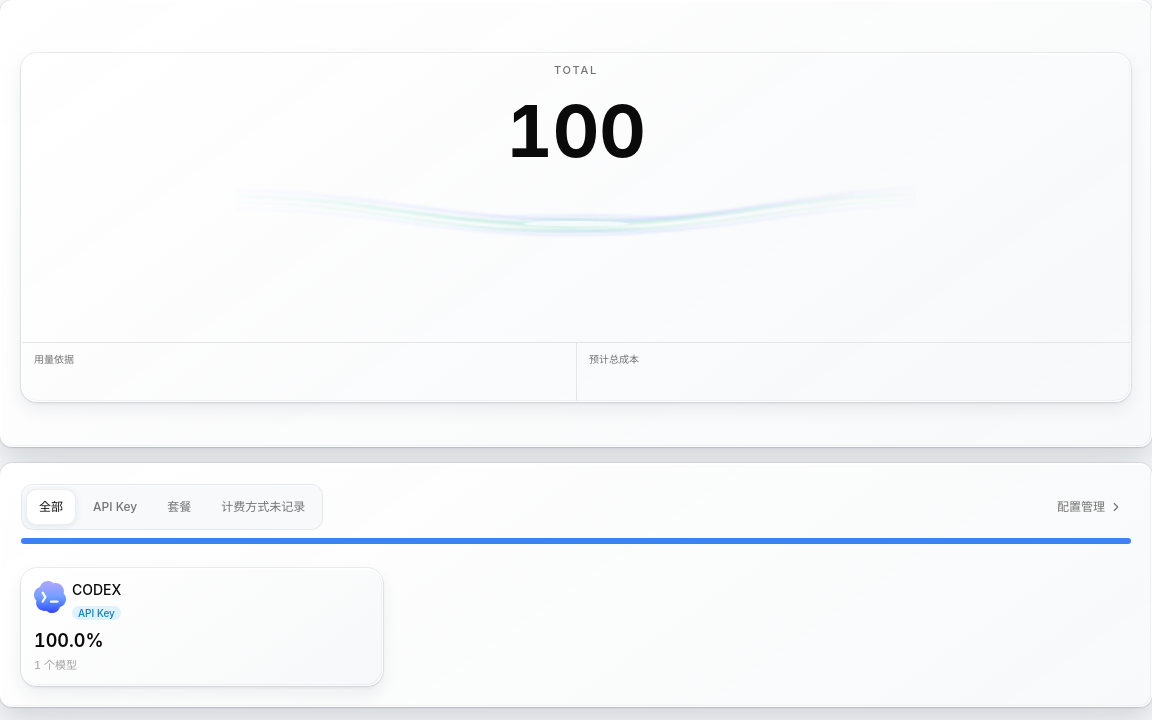
Test: UsageOverview › shows the empty state when the active filter has no matches
Click the tab "计费方式未记录": (263, 507) left=208, top=489, right=318, bottom=525
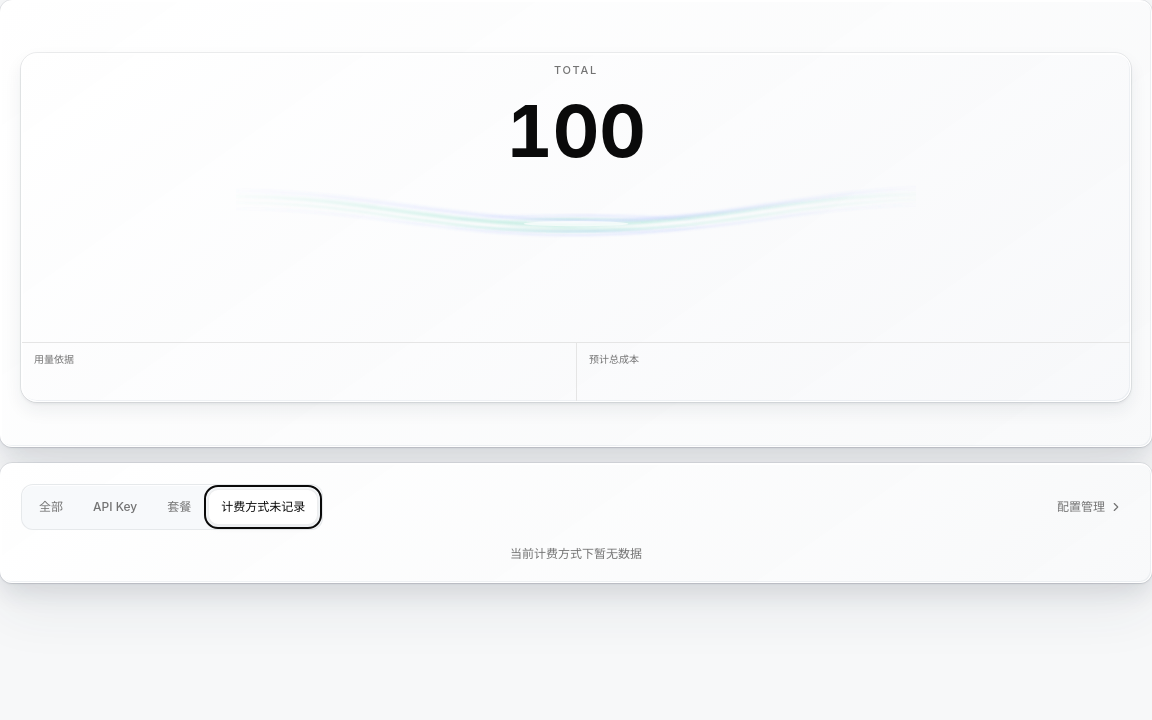
Expected: the button "CODEX" is gone
Expected: the text "当前计费方式下暂无数据" is shown, left=510, top=546, right=642, bottom=561
